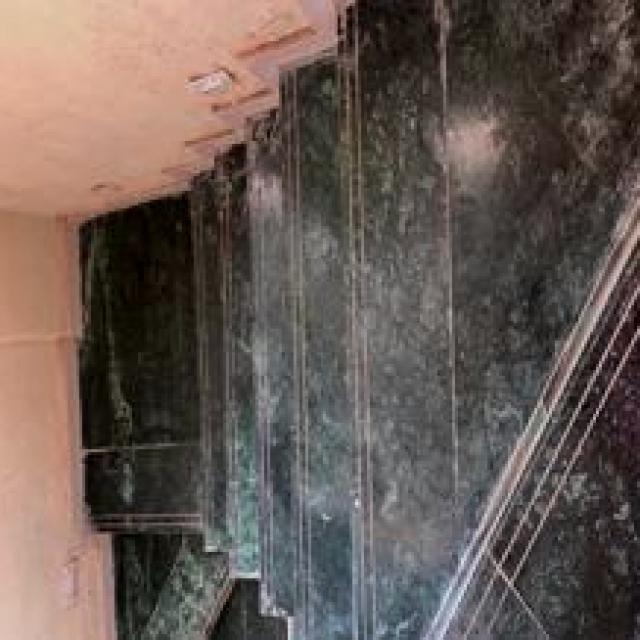downstair: (283, 25, 526, 406)
